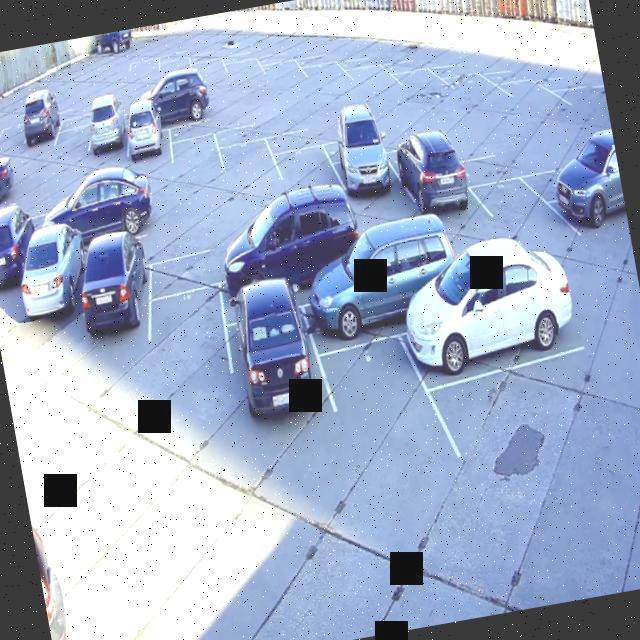space-empty: (423, 331, 630, 483), (306, 299, 460, 497), (132, 278, 240, 415), (147, 232, 271, 308), (470, 173, 551, 268), (378, 109, 473, 176), (455, 129, 547, 193), (118, 210, 208, 268), (316, 107, 400, 165), (265, 106, 344, 165), (271, 139, 342, 204), (162, 95, 245, 146), (214, 131, 278, 196), (166, 129, 226, 197), (216, 101, 296, 148), (376, 35, 456, 81), (447, 68, 506, 127), (528, 140, 580, 204), (481, 54, 554, 96), (499, 75, 559, 125), (338, 36, 411, 77), (537, 57, 604, 101), (294, 55, 355, 101), (292, 30, 361, 70), (389, 65, 452, 108), (256, 52, 308, 104), (429, 45, 497, 83), (51, 108, 97, 159), (561, 84, 610, 127), (217, 51, 264, 95), (347, 60, 398, 99), (0, 188, 34, 241), (124, 52, 164, 95), (0, 118, 35, 165), (187, 54, 227, 87), (157, 54, 194, 87)
space-occupied: (404, 247, 585, 376), (220, 274, 329, 447), (300, 236, 448, 353), (210, 202, 358, 319), (7, 221, 102, 335), (72, 248, 160, 366), (326, 103, 415, 218), (395, 131, 472, 231), (559, 160, 632, 254), (44, 175, 149, 240), (120, 72, 207, 138), (119, 101, 179, 192), (0, 210, 53, 305), (84, 95, 133, 173), (18, 91, 63, 169), (0, 145, 16, 208)
